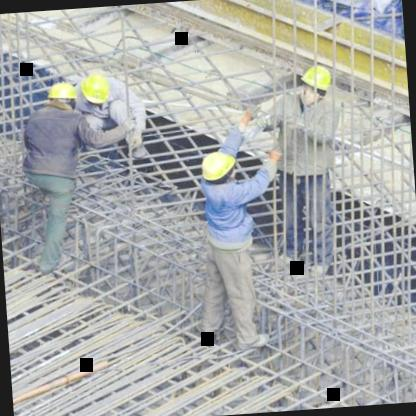helmet: (200, 147, 243, 188), (298, 63, 334, 106), (79, 70, 115, 112), (43, 81, 79, 115)
